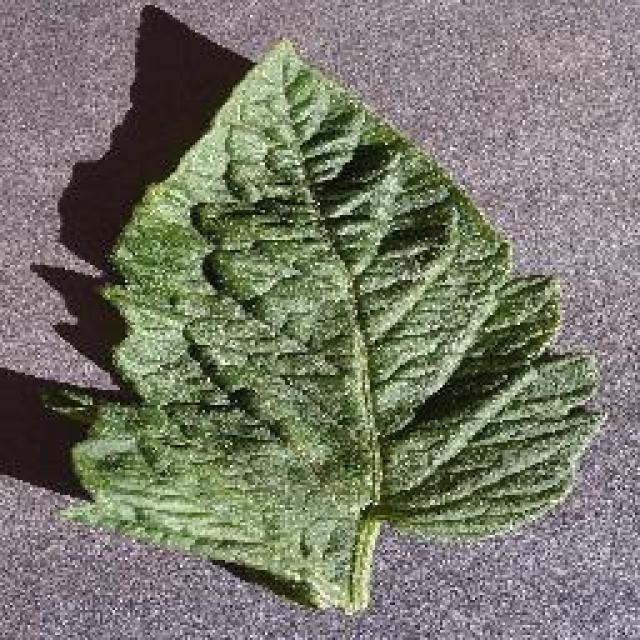Tomato_Healthy: (57, 28, 622, 574)
